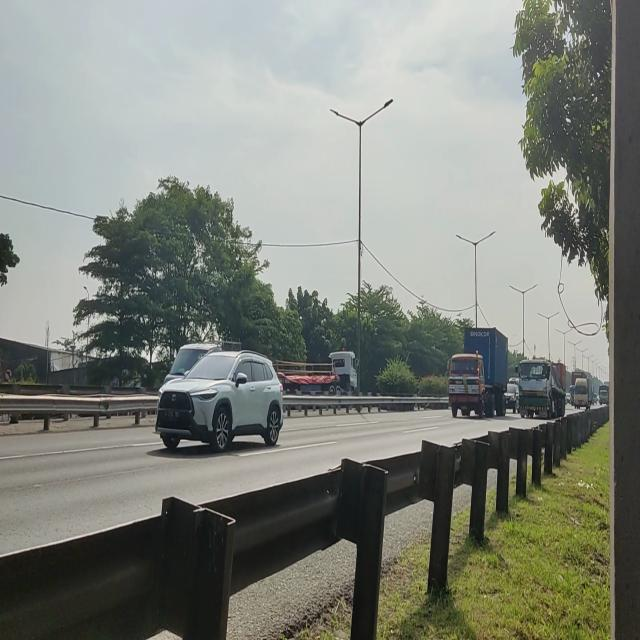Golongan I: (152, 340, 289, 456)
